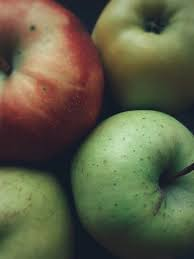apple: (69, 110, 194, 259)
